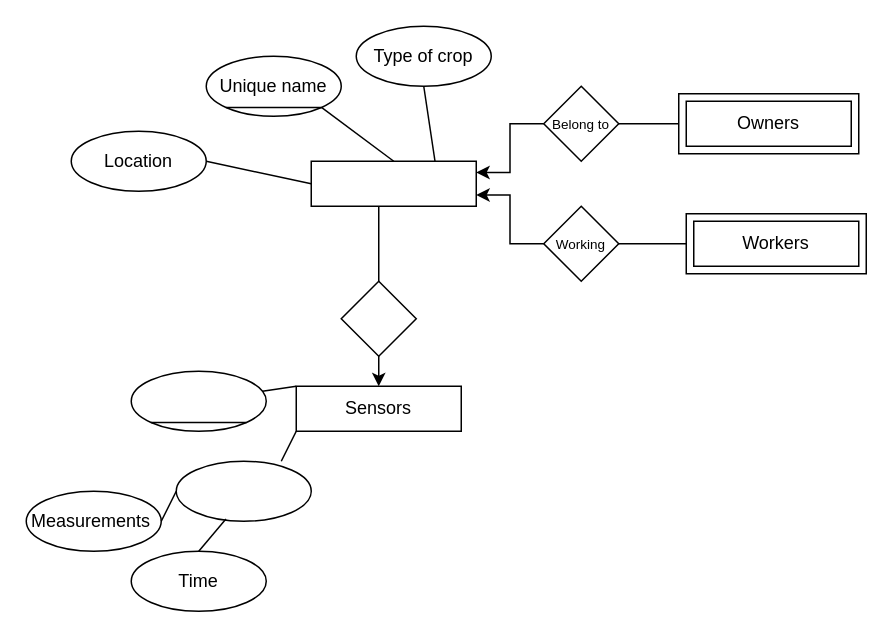
This 893x638 diagram has some shape labels left out. Each missing label, with the centre of its shape:
"Crop plot" belongs at point 393,183.
"Monitoring" belongs at point 378,318.
"Record data" belongs at point 243,490.
"Unique code" belongs at point 198,400.
